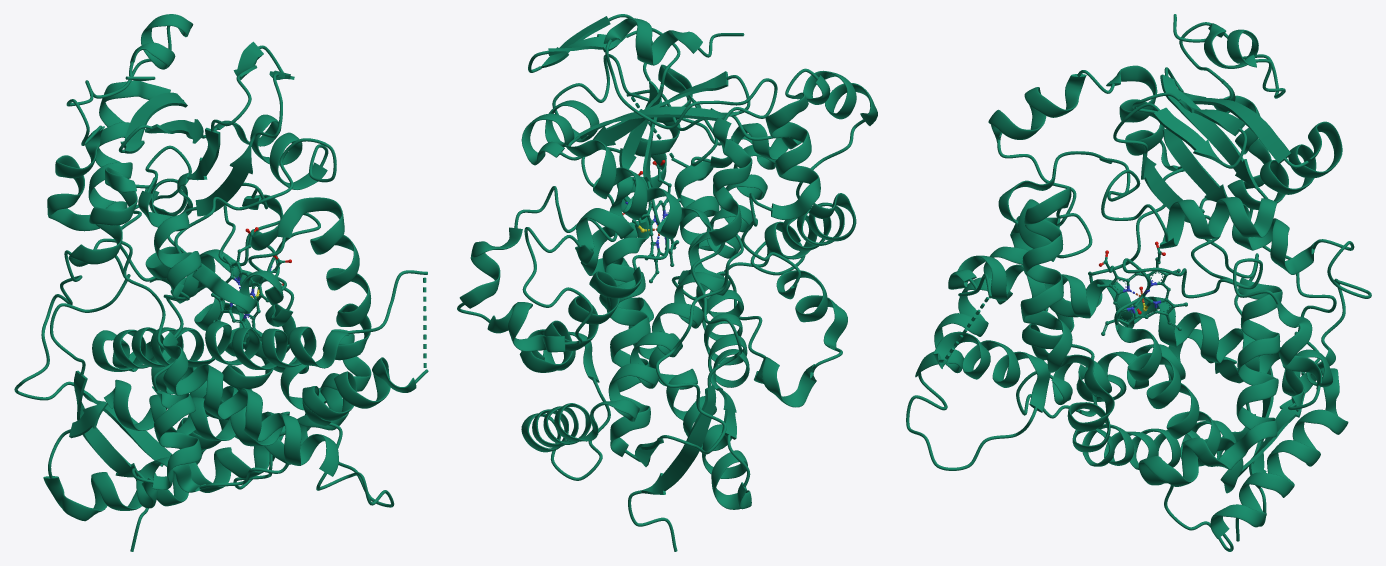
The model's file is 1TQN-20250301T195908592Z-9aade8d5.glb.
3 views of the same model, side by side, from view 1: azimuth 30°, elevation 25°; view 2: azimuth 150°, elevation 25°; view 3: azimuth 270°, elevation 25° (orthographic).
Bounding box in the file's own units: 40.13 × 71.18 × 56.83.
